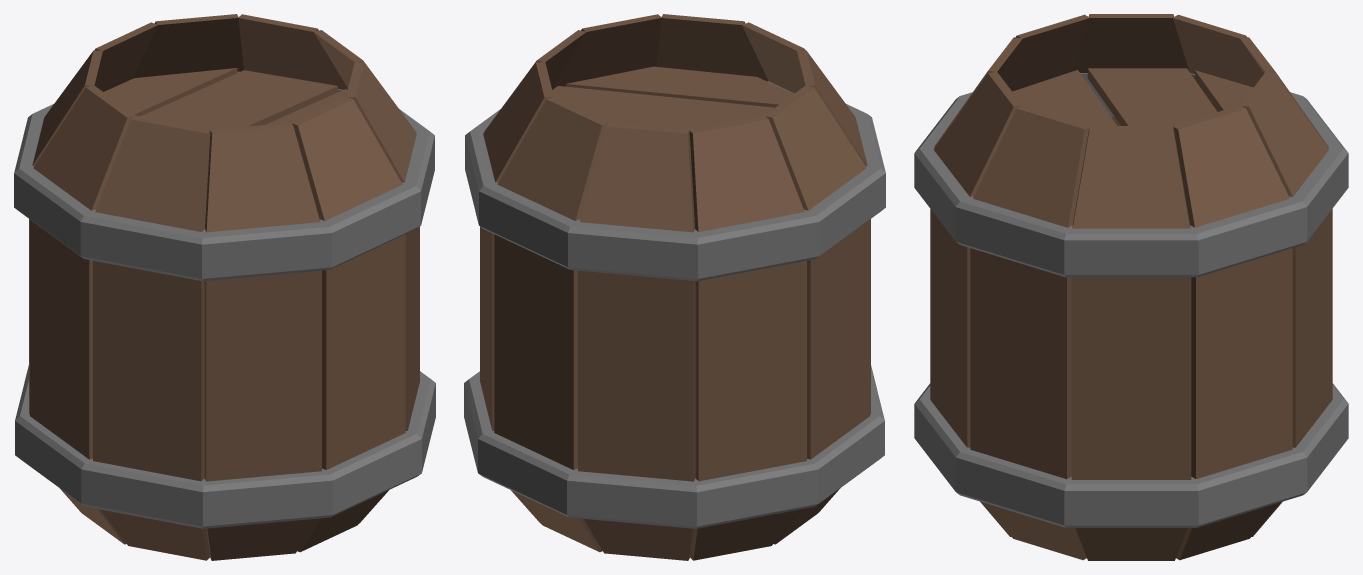
Rendered from Barrel.fbx.
3 views of the same model, side by side, from view 1: azimuth 30°, elevation 25°; view 2: azimuth 150°, elevation 25°; view 3: azimuth 270°, elevation 25° (orthographic).
Visible parts, largest first — view 1: Barrel; view 2: Barrel; view 3: Barrel.
Part boxes in pixels (bbox=[...]): Barrel: bbox=[14, 14, 435, 560]; Barrel: bbox=[464, 14, 885, 560]; Barrel: bbox=[914, 14, 1348, 560].
Bounding box in the file's own units: 78.67 × 89.99 × 82.53.
